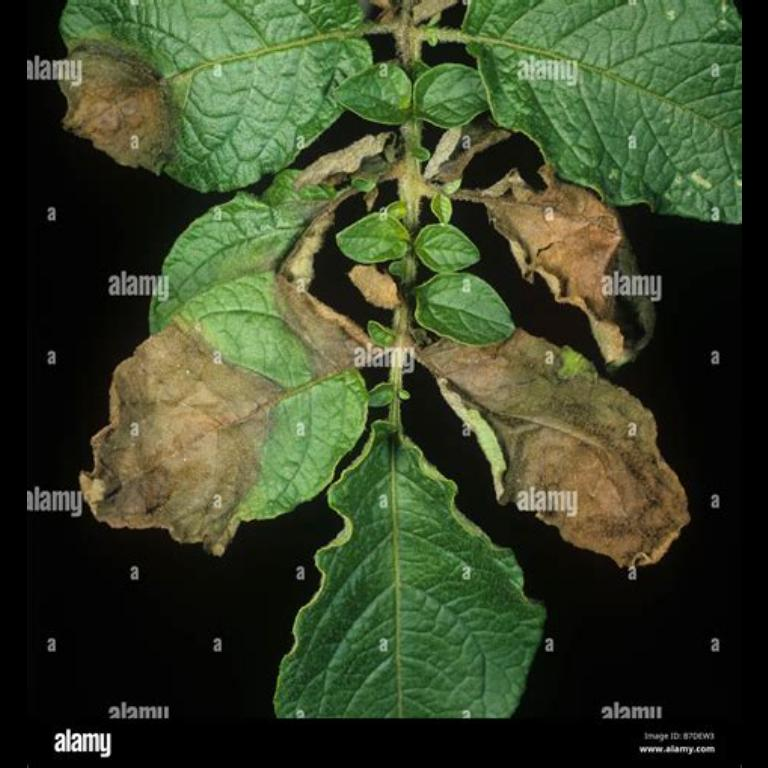blight: (97, 320, 294, 536), (491, 362, 623, 496), (61, 50, 191, 160)
